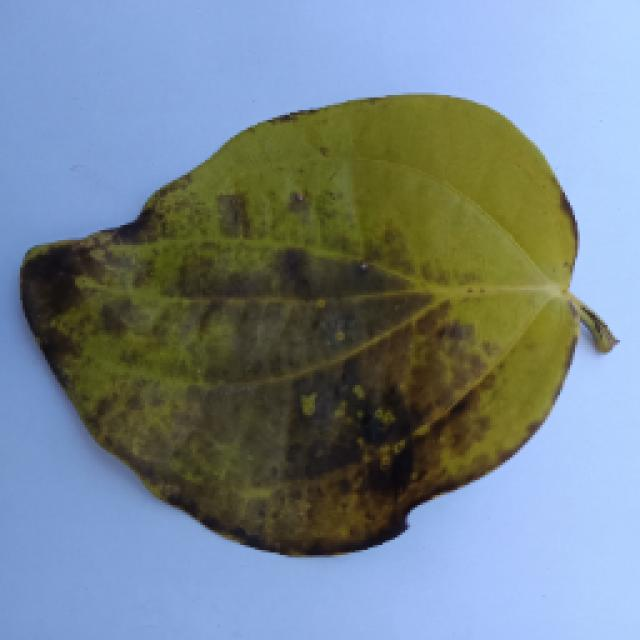slow-decline: (7, 100, 615, 568)
